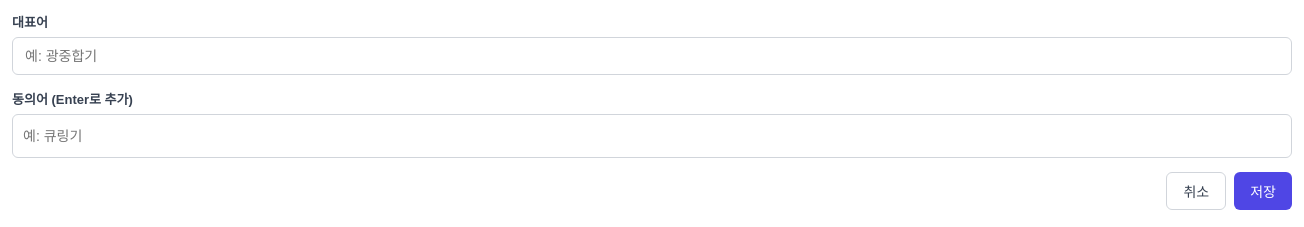
Test: SynonymGroupForm › Enter 키로 동의어 칩 추가
# 대표어 먼저 입력 (required)
Type "광중합기" into the field labelled "대표어".
click(652, 56); type("광중합기")  # box [12,37,1292,75]
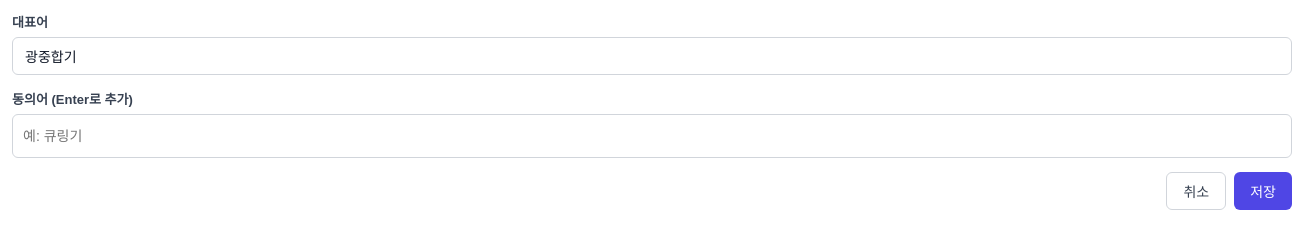
Type "큐링기" into the field with placeholder "예: 큐링기".
click(652, 136); type("큐링기")  # box [23,124,1281,148]
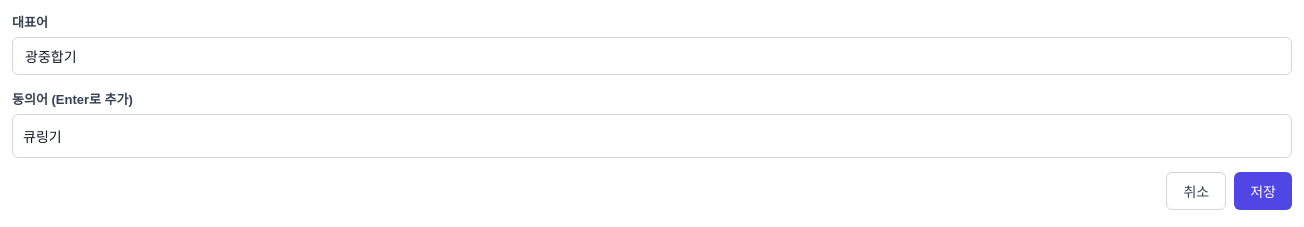
Press Enter in the 2nd field, box [23,124,1281,148]
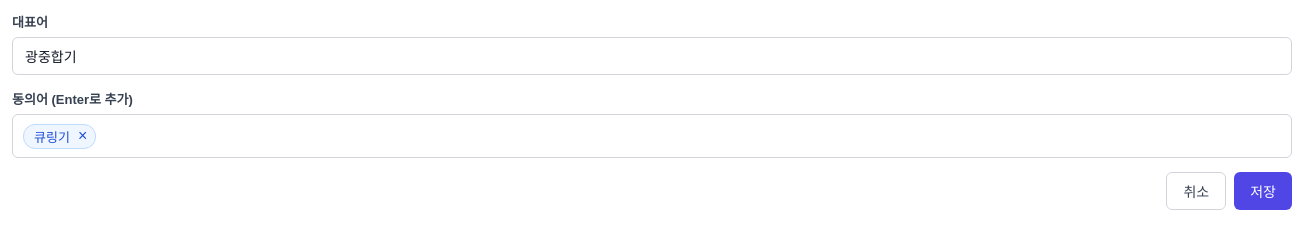
Check: the text "큐링기" is shown, box [34,126,70,146]
